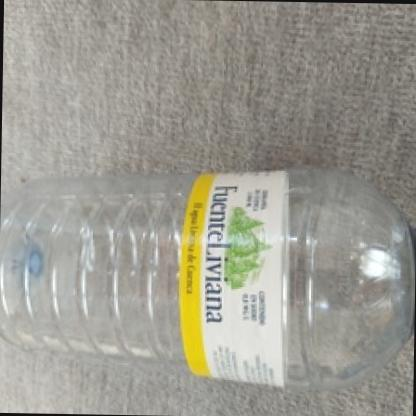plastic_bottles: (3, 166, 416, 384)
